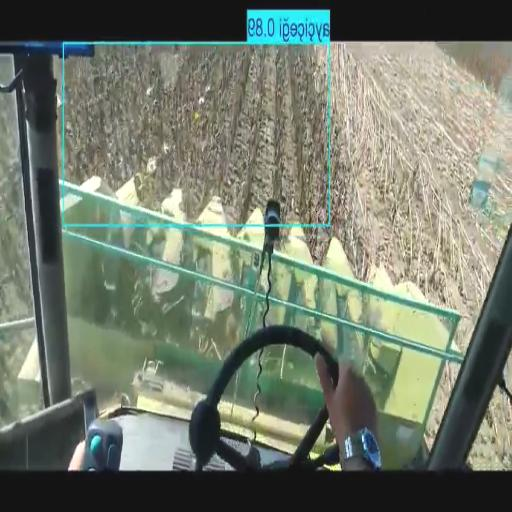ayc: (63, 47, 328, 222)
